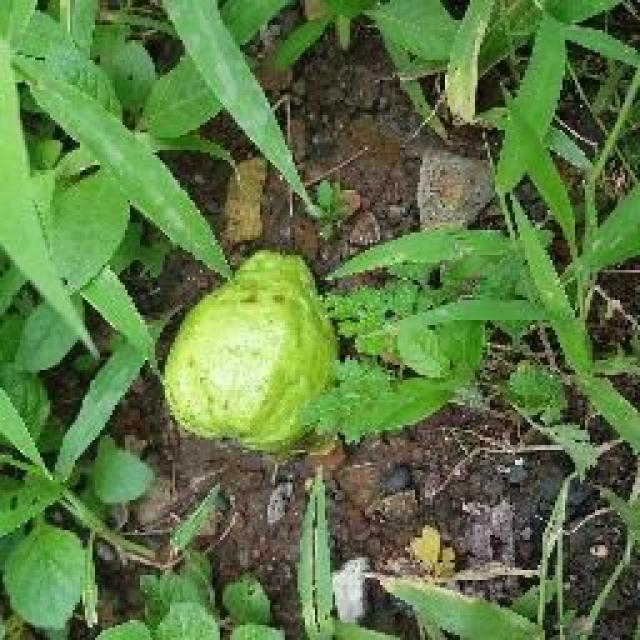Good_Guava: (155, 250, 338, 455)
